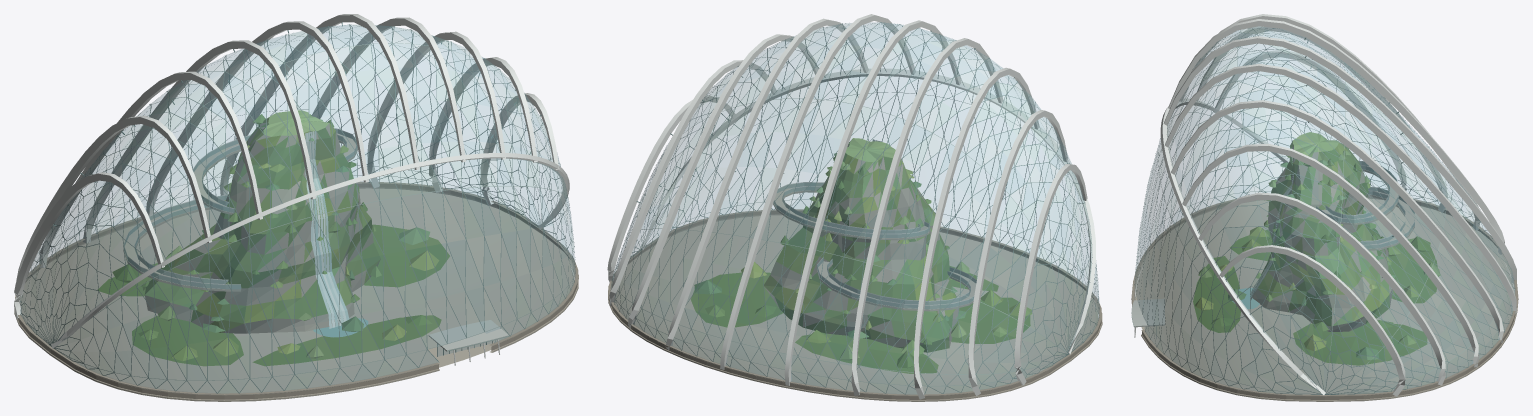
The model's file is sg-cloud-forest.glb.
The picture shows the model from 3 angles, left to right: view 1: azimuth 30°, elevation 25°; view 2: azimuth 150°, elevation 25°; view 3: azimuth 270°, elevation 25°; orthographic projection. The views are drawn at different scales.
Visible parts, largest first — view 1: Glass gridshell panels, Conservatory floor, Cloud Mountain, Radial outer steel arches, Diagonal glazing mullions, Foothills planting, Low stone plinth and curb, Cloud Walk and Tree Top Walk, Primary steel spine, Indoor waterfall and plunge pool, Front entrance canopy and columns; view 2: Glass gridshell panels, Radial outer steel arches, Conservatory floor, Diagonal glazing mullions, Cloud Mountain, Foothills planting, Low stone plinth and curb, Cloud Walk and Tree Top Walk, Primary steel spine; view 3: Glass gridshell panels, Conservatory floor, Radial outer steel arches, Diagonal glazing mullions, Cloud Mountain, Foothills planting, Low stone plinth and curb, Primary steel spine, Cloud Walk and Tree Top Walk, Front entrance canopy and columns, Indoor waterfall and plunge pool.
Part boxes in pixels (box(x1,y1,x2,y2)): Glass gridshell panels: box(19, 25, 575, 393); Conservatory floor: box(20, 189, 574, 393); Cloud Mountain: box(141, 110, 380, 333); Radial outer steel arches: box(14, 14, 559, 318); Diagonal glazing mullions: box(20, 24, 575, 393); Foothills planting: box(97, 224, 449, 366); Low stone plinth and curb: box(14, 181, 578, 401); Cloud Walk and Tree Top Walk: box(123, 128, 357, 291); Primary steel spine: box(51, 153, 569, 348); Indoor waterfall and plunge pool: box(305, 131, 368, 337); Front entrance canopy and columns: box(428, 320, 508, 365); Glass gridshell panels: box(611, 22, 1099, 394); Radial outer steel arches: box(607, 14, 1087, 399); Conservatory floor: box(615, 216, 1098, 394); Diagonal glazing mullions: box(610, 22, 1099, 394); Cloud Mountain: box(764, 138, 959, 352); Foothills planting: box(691, 261, 1031, 373); Low stone plinth and curb: box(608, 209, 1102, 401); Cloud Walk and Tree Top Walk: box(773, 182, 976, 311); Primary steel spine: box(640, 68, 1095, 354); Glass gridshell panels: box(1135, 26, 1514, 394); Conservatory floor: box(1135, 199, 1513, 394); Radial outer steel arches: box(1163, 14, 1516, 396); Diagonal glazing mullions: box(1134, 28, 1515, 394); Cloud Mountain: box(1252, 132, 1392, 331); Foothills planting: box(1193, 227, 1440, 365); Low stone plinth and curb: box(1131, 196, 1518, 401); Primary steel spine: box(1160, 98, 1326, 395); Cloud Walk and Tree Top Walk: box(1316, 160, 1414, 250); Front entrance canopy and columns: box(1131, 298, 1164, 337); Indoor waterfall and plunge pool: box(1232, 157, 1293, 309).
Bounding box in the file's own units: 100 × 58 × 80.
